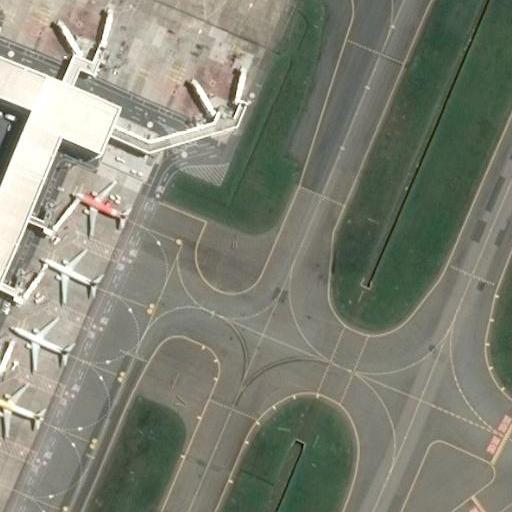Aircraft: (7, 312, 71, 371), (42, 245, 102, 301), (70, 178, 129, 234), (0, 382, 47, 436)
